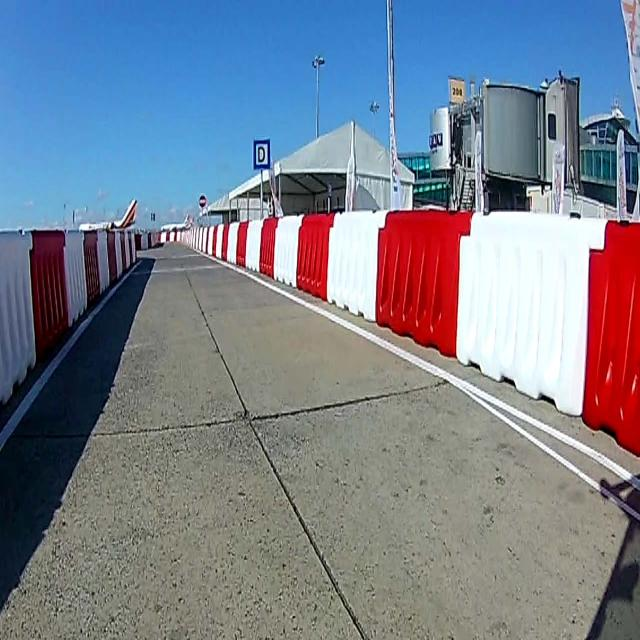durak: (253, 138, 271, 170)
girisyok: (198, 193, 206, 211)
